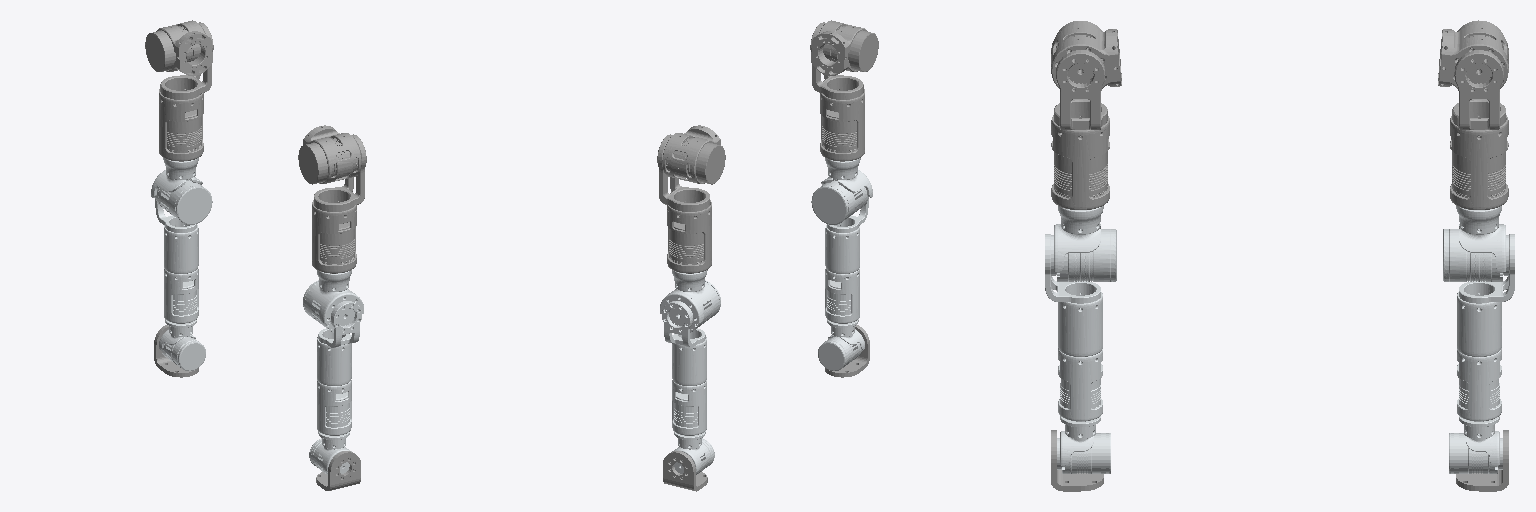
The robot description file, URDF, robot "eyou_arm":
<?xml version="1.0" encoding="utf-8"?>
<!-- This URDF was automatically created by SolidWorks to URDF Exporter! Originally created by Stephen Brawner (brawner@gmail.com) 
     Commit Version: 1.6.0-4-g7f85cfe  Build Version: 1.6.7995.38578
     For more information, please see http://wiki.ros.org/sw_urdf_exporter -->
<robot
  name="eyou_arm">
  <link
    name="base_link">
    <inertial>
      <origin
        xyz="-1.11022302462516E-16 1.38777878078145E-16 0.469182869455848"
        rpy="0 0 0" />
      <mass
        value="4.58407761793697" />
      <inertia
        ixx="0.035026270933699"
        ixy="8.72490192900531E-11"
        ixz="-1.44759304418113E-18"
        iyy="0.0417863795649787"
        iyz="-7.29742718698457E-18"
        izz="0.011481351070146" />
    </inertial>
    <visual>
      <origin
        xyz="0 0 0"
        rpy="0 0 0" />
      <geometry>
        <mesh
          filename="package://eyou_description/meshes/base_link.STL" />
      </geometry>
      <material
        name="">
        <color
          rgba="0.686274509803922 0.658823529411765 0.63921568627451 1" />
      </material>
    </visual>
    <collision>
      <origin
        xyz="0 0 0"
        rpy="0 0 0" />
      <geometry>
        <mesh
          filename="package://eyou_description/meshes/base_link.STL" />
      </geometry>
    </collision>
  </link>
  <link
    name="link1">
    <inertial>
      <origin
        xyz="-0.00616208879294661 5.93612729388182E-08 0.0349460598059361"
        rpy="0 0 0" />
      <mass
        value="0.529497389335452" />
      <inertia
        ixx="0.000212324556474794"
        ixy="4.78501618110663E-10"
        ixz="-2.41724008448851E-06"
        iyy="0.000266190944788909"
        iyz="7.63896352721843E-11"
        izz="0.000255986765145615" />
    </inertial>
    <visual>
      <origin
        xyz="0 0 0"
        rpy="0 0 0" />
      <geometry>
        <mesh
          filename="package://eyou_description/meshes/link1.STL" />
      </geometry>
      <material
        name="">
        <color
          rgba="0.698039215686274 0.698039215686274 0.698039215686274 1" />
      </material>
    </visual>
    <collision>
      <origin
        xyz="0 0 0"
        rpy="0 0 0" />
      <geometry>
        <mesh
          filename="package://eyou_description/meshes/link1.STL" />
      </geometry>
    </collision>
  </link>
  <joint
    name="joint1"
    type="revolute">
    <origin
      xyz="0 0.15558 0.52181"
      rpy="-1.6606 0 0" />
    <parent
      link="base_link" />
    <child
      link="link1" />
    <axis
      xyz="0 0 1" />
    <limit
      lower="-3.14"
      upper="3.14"
      effort="10"
      velocity="10" />
  </joint>
  <link
    name="link2">
    <inertial>
      <origin
        xyz="-0.100980933411647 -5.28799155852244E-09 -0.0232813958693823"
        rpy="0 0 0" />
      <mass
        value="0.566804554005846" />
      <inertia
        ixx="0.000240973522730252"
        ixy="5.91194405737918E-12"
        ixz="-3.5179267638491E-05"
        iyy="0.000395824967050118"
        iyz="-4.82599101387467E-10"
        izz="0.000373860263464783" />
    </inertial>
    <visual>
      <origin
        xyz="0 0 0"
        rpy="0 0 0" />
      <geometry>
        <mesh
          filename="package://eyou_description/meshes/link2.STL" />
      </geometry>
      <material
        name="">
        <color
          rgba="0.698039215686274 0.698039215686274 0.698039215686274 1" />
      </material>
    </visual>
    <collision>
      <origin
        xyz="0 0 0"
        rpy="0 0 0" />
      <geometry>
        <mesh
          filename="package://eyou_description/meshes/link2.STL" />
      </geometry>
    </collision>
  </link>
  <joint
    name="joint2"
    type="revolute">
    <origin
      xyz="0.025999 0 0.0375"
      rpy="-1.5708 0.089758 -1.5708" />
    <parent
      link="link1" />
    <child
      link="link2" />
    <axis
      xyz="0 0 1" />
    <limit
      lower="-3.14"
      upper="3.14"
      effort="10"
      velocity="10" />
  </joint>
  <link
    name="link3">
    <inertial>
      <origin
        xyz="-3.26358497448886E-08 0.00357308588736699 0.0513274498338813"
        rpy="0 0 0" />
      <mass
        value="0.481708259704281" />
      <inertia
        ixx="0.000207537636321285"
        ixy="-3.50979044988331E-10"
        ixz="1.63534113028137E-10"
        iyy="0.00015599988287561"
        iyz="2.41690545773794E-06"
        izz="0.000219262186911974" />
    </inertial>
    <visual>
      <origin
        xyz="0 0 0"
        rpy="0 0 0" />
      <geometry>
        <mesh
          filename="package://eyou_description/meshes/link3.STL" />
      </geometry>
      <material
        name="">
        <color
          rgba="0.898039215686275 0.917647058823529 0.929411764705882 1" />
      </material>
    </visual>
    <collision>
      <origin
        xyz="0 0 0"
        rpy="0 0 0" />
      <geometry>
        <mesh
          filename="package://eyou_description/meshes/link3.STL" />
      </geometry>
    </collision>
  </link>
  <joint
    name="joint3"
    type="revolute">
    <origin
      xyz="-0.1505 0 -0.026"
      rpy="0 -1.5708 0" />
    <parent
      link="link2" />
    <child
      link="link3" />
    <axis
      xyz="0 0 1" />
    <limit
      lower="-3.14"
      upper="3.14"
      effort="10"
      velocity="10" />
  </joint>
  <link
    name="link4">
    <inertial>
      <origin
        xyz="3.57473034229283E-08 0.115010193588145 -0.0269265503493482"
        rpy="0 0 0" />
      <mass
        value="0.329838563871613" />
      <inertia
        ixx="0.00014817696579662"
        ixy="3.10151365528983E-10"
        ixz="6.92426965976863E-09"
        iyy="9.63331293352158E-05"
        iyz="1.11021931389748E-05"
        izz="0.000144485798243393" />
    </inertial>
    <visual>
      <origin
        xyz="0 0 0"
        rpy="0 0 0" />
      <geometry>
        <mesh
          filename="package://eyou_description/meshes/link4.STL" />
      </geometry>
      <material
        name="">
        <color
          rgba="0.898039215686275 0.917647058823529 0.929411764705882 1" />
      </material>
    </visual>
    <collision>
      <origin
        xyz="0 0 0"
        rpy="0 0 0" />
      <geometry>
        <mesh
          filename="package://eyou_description/meshes/link4.STL" />
      </geometry>
    </collision>
  </link>
  <joint
    name="joint4"
    type="revolute">
    <origin
      xyz="0 -0.028999 0.0575"
      rpy="1.5708 0 0" />
    <parent
      link="link3" />
    <child
      link="link4" />
    <axis
      xyz="0 0 1" />
    <limit
      lower="-3.14"
      upper="3.14"
      effort="10"
      velocity="10" />
  </joint>
  <link
    name="link5">
    <inertial>
      <origin
        xyz="1.66599088510799E-07 0.00406173056683598 0.0366311644711939"
        rpy="0 0 0" />
      <mass
        value="0.228601823800022" />
      <inertia
        ixx="6.25397849311352E-05"
        ixy="-4.33257152480105E-10"
        ixz="-7.78869976653566E-09"
        iyy="4.29204656172376E-05"
        iyz="5.29791859525774E-07"
        izz="6.5381418031852E-05" />
    </inertial>
    <visual>
      <origin
        xyz="0 0 0"
        rpy="0 0 0" />
      <geometry>
        <mesh
          filename="package://eyou_description/meshes/link5.STL" />
      </geometry>
      <material
        name="">
        <color
          rgba="0.898039215686275 0.917647058823529 0.929411764705882 1" />
      </material>
    </visual>
    <collision>
      <origin
        xyz="0 0 0"
        rpy="0 0 0" />
      <geometry>
        <mesh
          filename="package://eyou_description/meshes/link5.STL" />
      </geometry>
    </collision>
  </link>
  <joint
    name="joint5"
    type="revolute">
    <origin
      xyz="0 0.1708 -0.029"
      rpy="-1.5708 0 0" />
    <parent
      link="link4" />
    <child
      link="link5" />
    <axis
      xyz="0 0 1" />
    <limit
      lower="-3.14"
      upper="3.14"
      effort="10"
      velocity="10" />
  </joint>
  <link
    name="link6">
    <inertial>
      <origin
        xyz="1.29556088079852E-12 0.0163010424836187 -0.00947928557125444"
        rpy="0 0 0" />
      <mass
        value="0.0598755010407636" />
      <inertia
        ixx="2.60762300701253E-05"
        ixy="-1.44091435352681E-16"
        ixz="-3.14217235279124E-16"
        iyy="2.2700377312818E-05"
        iyz="7.94649714445054E-06"
        izz="2.2741529985641E-05" />
    </inertial>
    <visual>
      <origin
        xyz="0 0 0"
        rpy="0 0 0" />
      <geometry>
        <mesh
          filename="package://eyou_description/meshes/link6.STL" />
      </geometry>
      <material
        name="">
        <color
          rgba="0.698039215686274 0.698039215686274 0.698039215686274 1" />
      </material>
    </visual>
    <collision>
      <origin
        xyz="0 0 0"
        rpy="0 0 0" />
      <geometry>
        <mesh
          filename="package://eyou_description/meshes/link6.STL" />
      </geometry>
    </collision>
  </link>
  <joint
    name="joint6"
    type="revolute">
    <origin
      xyz="0 -0.0233 0.041"
      rpy="1.5708 0 0" />
    <parent
      link="link5" />
    <child
      link="link6" />
    <axis
      xyz="0 0 1" />
    <limit
      lower="-3.14"
      upper="3.14"
      effort="10"
      velocity="10" />
  </joint>
  <link
    name="link7">
    <inertial>
      <origin
        xyz="-0.00616208932690475 5.46574556448132E-08 0.0349460424190002"
        rpy="0 0 0" />
      <mass
        value="0.52949738018355" />
      <inertia
        ixx="0.000212324568733185"
        ixy="5.47569772954262E-10"
        ixz="-2.41704489808493E-06"
        iyy="0.000266190876951229"
        iyz="-1.12432350789801E-10"
        izz="0.000255986839862974" />
    </inertial>
    <visual>
      <origin
        xyz="0 0 0"
        rpy="0 0 0" />
      <geometry>
        <mesh
          filename="package://eyou_description/meshes/link7.STL" />
      </geometry>
      <material
        name="">
        <color
          rgba="0.698039215686274 0.698039215686274 0.698039215686274 1" />
      </material>
    </visual>
    <collision>
      <origin
        xyz="0 0 0"
        rpy="0 0 0" />
      <geometry>
        <mesh
          filename="package://eyou_description/meshes/link7.STL" />
      </geometry>
    </collision>
  </link>
  <joint
    name="joint7"
    type="revolute">
    <origin
      xyz="0 -0.15558 0.52181"
      rpy="1.6606 0 0" />
    <parent
      link="base_link" />
    <child
      link="link7" />
    <axis
      xyz="0 0 1" />
    <limit
      lower="-3.14"
      upper="3.14"
      effort="10"
      velocity="10" />
  </joint>
  <link
    name="link8">
    <inertial>
      <origin
        xyz="-0.100980934163438 4.33082963935405E-09 -0.0232814951400653"
        rpy="0 0 0" />
      <mass
        value="0.566804545811446" />
      <inertia
        ixx="0.00024097353024685"
        ixy="1.13923769150559E-10"
        ixz="-3.5177626076926E-05"
        iyy="0.000395797645934751"
        iyz="-3.58005649274391E-10"
        izz="0.000373887590493816" />
    </inertial>
    <visual>
      <origin
        xyz="0 0 0"
        rpy="0 0 0" />
      <geometry>
        <mesh
          filename="package://eyou_description/meshes/link8.STL" />
      </geometry>
      <material
        name="">
        <color
          rgba="0.698039215686274 0.698039215686274 0.698039215686274 1" />
      </material>
    </visual>
    <collision>
      <origin
        xyz="0 0 0"
        rpy="0 0 0" />
      <geometry>
        <mesh
          filename="package://eyou_description/meshes/link8.STL" />
      </geometry>
    </collision>
  </link>
  <joint
    name="joint8"
    type="revolute">
    <origin
      xyz="0.025999 0 0.0375"
      rpy="1.5708 0.089758 1.5708" />
    <parent
      link="link7" />
    <child
      link="link8" />
    <axis
      xyz="0 0 1" />
    <limit
      lower="-3.14"
      upper="3.14"
      effort="10"
      velocity="10" />
  </joint>
  <link
    name="link9">
    <inertial>
      <origin
        xyz="3.26382594145747E-08 -0.0035730858875701 0.0513274498338843"
        rpy="0 0 0" />
      <mass
        value="0.48170825970428" />
      <inertia
        ixx="0.000207537625099252"
        ixy="-3.78466862788424E-10"
        ixz="-1.63597456985926E-10"
        iyy="0.000155999894097639"
        iyz="-2.41690541955742E-06"
        izz="0.000219262186911973" />
    </inertial>
    <visual>
      <origin
        xyz="0 0 0"
        rpy="0 0 0" />
      <geometry>
        <mesh
          filename="package://eyou_description/meshes/link9.STL" />
      </geometry>
      <material
        name="">
        <color
          rgba="0.898039215686275 0.917647058823529 0.929411764705882 1" />
      </material>
    </visual>
    <collision>
      <origin
        xyz="0 0 0"
        rpy="0 0 0" />
      <geometry>
        <mesh
          filename="package://eyou_description/meshes/link9.STL" />
      </geometry>
    </collision>
  </link>
  <joint
    name="joint9"
    type="revolute">
    <origin
      xyz="-0.1505 0 -0.026"
      rpy="0 -1.5708 0" />
    <parent
      link="link8" />
    <child
      link="link9" />
    <axis
      xyz="0 0 1" />
    <limit
      lower="-3.14"
      upper="3.14"
      effort="10"
      velocity="10" />
  </joint>
  <link
    name="link10">
    <inertial>
      <origin
        xyz="-3.91745892669437E-08 -0.115010189192398 -0.0269265443738384"
        rpy="0 0 0" />
      <mass
        value="0.329838528226449" />
      <inertia
        ixx="0.000148170835528593"
        ixy="2.89204013419824E-10"
        ixz="2.08236955086559E-09"
        iyy="9.6333123506679E-05"
        iyz="-1.11021784956733E-05"
        izz="0.000144491896112938" />
    </inertial>
    <visual>
      <origin
        xyz="0 0 0"
        rpy="0 0 0" />
      <geometry>
        <mesh
          filename="package://eyou_description/meshes/link10.STL" />
      </geometry>
      <material
        name="">
        <color
          rgba="0.898039215686275 0.917647058823529 0.929411764705882 1" />
      </material>
    </visual>
    <collision>
      <origin
        xyz="0 0 0"
        rpy="0 0 0" />
      <geometry>
        <mesh
          filename="package://eyou_description/meshes/link10.STL" />
      </geometry>
    </collision>
  </link>
  <joint
    name="joint10"
    type="revolute">
    <origin
      xyz="0 0.028999 0.0575"
      rpy="-1.5708 0 0" />
    <parent
      link="link9" />
    <child
      link="link10" />
    <axis
      xyz="0 0 1" />
    <limit
      lower="-3.14"
      upper="3.14"
      effort="10"
      velocity="10" />
  </joint>
  <link
    name="link11">
    <inertial>
      <origin
        xyz="-1.61780980056925E-07 -0.00406173069318472 0.0366311724726395"
        rpy="0 0 0" />
      <mass
        value="0.228601822256755" />
      <inertia
        ixx="6.25336693092091E-05"
        ixy="-4.53352837048476E-10"
        ixz="-1.2167177119533E-09"
        iyy="4.29204632434536E-05"
        iyz="-5.29806897390379E-07"
        izz="6.53875309664482E-05" />
    </inertial>
    <visual>
      <origin
        xyz="0 0 0"
        rpy="0 0 0" />
      <geometry>
        <mesh
          filename="package://eyou_description/meshes/link11.STL" />
      </geometry>
      <material
        name="">
        <color
          rgba="0.898039215686275 0.917647058823529 0.929411764705882 1" />
      </material>
    </visual>
    <collision>
      <origin
        xyz="0 0 0"
        rpy="0 0 0" />
      <geometry>
        <mesh
          filename="package://eyou_description/meshes/link11.STL" />
      </geometry>
    </collision>
  </link>
  <joint
    name="joint11"
    type="revolute">
    <origin
      xyz="0 -0.1708 -0.029"
      rpy="1.5708 0 0" />
    <parent
      link="link10" />
    <child
      link="link11" />
    <axis
      xyz="0 0 1" />
    <limit
      lower="-3.14"
      upper="3.14"
      effort="10"
      velocity="10" />
  </joint>
  <link
    name="link12">
    <inertial>
      <origin
        xyz="-1.49094625534474E-12 -0.0163010424835384 -0.00947928557138822"
        rpy="0 0 0" />
      <mass
        value="0.0598755010407634" />
      <inertia
        ixx="2.60762300701254E-05"
        ixy="-3.01592697835458E-16"
        ixz="2.48143500673228E-16"
        iyy="2.27003773129485E-05"
        iyz="-7.94649714445088E-06"
        izz="2.27415299855105E-05" />
    </inertial>
    <visual>
      <origin
        xyz="0 0 0"
        rpy="0 0 0" />
      <geometry>
        <mesh
          filename="package://eyou_description/meshes/link12.STL" />
      </geometry>
      <material
        name="">
        <color
          rgba="0.698039215686274 0.698039215686274 0.698039215686274 1" />
      </material>
    </visual>
    <collision>
      <origin
        xyz="0 0 0"
        rpy="0 0 0" />
      <geometry>
        <mesh
          filename="package://eyou_description/meshes/link12.STL" />
      </geometry>
    </collision>
  </link>
  <joint
    name="joint12"
    type="revolute">
    <origin
      xyz="0 0.0233 0.041"
      rpy="-1.5708 0 0" />
    <parent
      link="link11" />
    <child
      link="link12" />
    <axis
      xyz="0 0 1" />
    <limit
      lower="-3.14"
      upper="3.14"
      effort="10"
      velocity="10" />
  </joint>
</robot>

--- Facts derived from the render (not from the file) ---
The picture shows the robot from 3 angles, left to right: view 1: azimuth 30°, elevation 25°; view 2: azimuth 150°, elevation 25°; view 3: azimuth 270°, elevation 25°; orthographic projection.
Robot: eyou_arm — 13 links, 12 joints (12 revolute); root link base_link; default pose: every joint at zero.
Visible links, largest first — view 1: link10, link8, link2, link4, link7, link1, link3, link9, link5, link12, link11, link6; view 2: link4, link2, link8, link10, link1, link7, link9, link3, link11, link6, link5, link12; view 3: link2, link8, link4, link10, link3, link9, link1, link7, link5, link11, link6, link12.
Link boxes in pixels (<box>): link10: <box>317,301,361,435</box>; link8: <box>312,134,366,273</box>; link2: <box>159,22,213,161</box>; link4: <box>155,199,198,323</box>; link7: <box>298,125,361,184</box>; link1: <box>145,20,212,75</box>; link3: <box>151,158,212,224</box>; link9: <box>303,270,363,332</box>; link5: <box>159,319,205,370</box>; link12: <box>316,451,360,490</box>; link11: <box>309,431,351,474</box>; link6: <box>154,325,198,377</box>; link4: <box>662,301,706,435</box>; link2: <box>657,134,711,273</box>; link8: <box>810,22,864,161</box>; link10: <box>825,199,868,323</box>; link1: <box>662,125,725,184</box>; link7: <box>811,20,878,75</box>; link9: <box>811,158,872,224</box>; link3: <box>660,270,720,332</box>; link11: <box>818,319,864,370</box>; link6: <box>663,451,707,491</box>; link5: <box>672,431,714,474</box>; link12: <box>825,325,869,377</box>; link2: <box>1450,50,1508,209</box>; link8: <box>1051,50,1109,209</box>; link4: <box>1457,234,1514,421</box>; link10: <box>1045,234,1102,421</box>; link3: <box>1443,206,1508,281</box>; link9: <box>1051,206,1116,281</box>; link1: <box>1438,20,1508,88</box>; link7: <box>1051,21,1121,88</box>; link5: <box>1449,416,1502,473</box>; link11: <box>1057,416,1110,473</box>; link6: <box>1456,430,1508,491</box>; link12: <box>1051,430,1103,491</box>.
Size in the robot's own frame: 0.0718 by 0.4558 by 0.4809 metres.
12 mesh visuals loaded from 13 distinct referenced files (12 binary STL); not drawn: 1 (reference not matched to a file when rendering).
